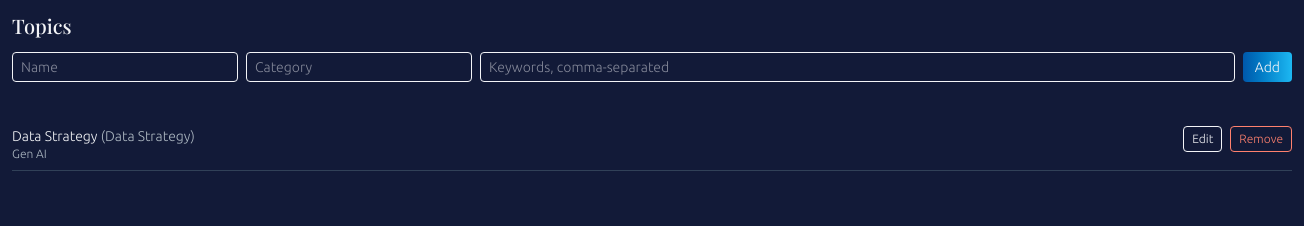
it: TopicsPage › saves an edited topic with the correct PATCH payload and closes the edit form on success
The image size is (1304, 226).
Expected: the text "Data Strategy" is shown, [12, 128, 98, 144]
Click the button "Edit".
click(1203, 139)  # box [1183, 126, 1222, 152]
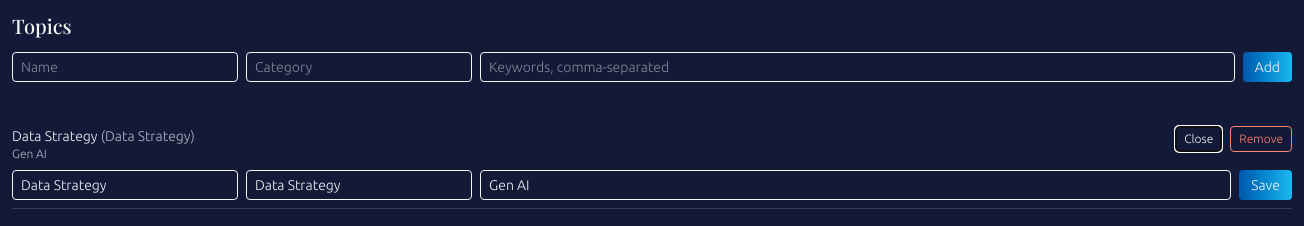
Replace the text in the 1st field with placeholder "Name" with "AI Strategy" at (125, 185), box [12, 170, 238, 200]
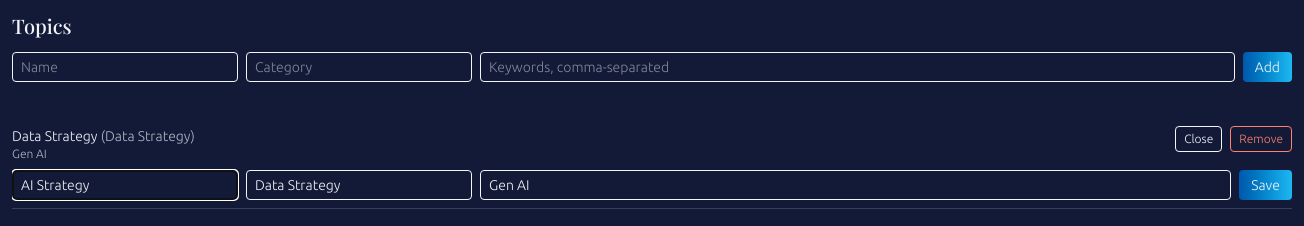
Replace the text in the 2nd field with placeholder "Category" with "AI" at (359, 185), box [246, 170, 472, 200]
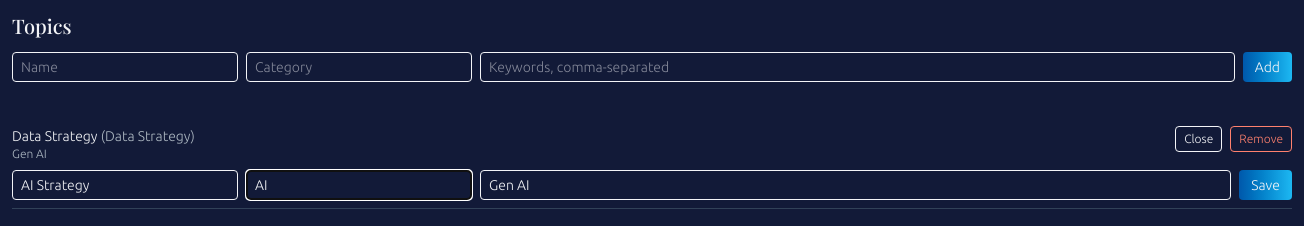
Replace the text in the 3rd field with placeholder "Keywords, comma-separated" with "Gen AI, LLM" at (856, 185), box [480, 170, 1231, 200]
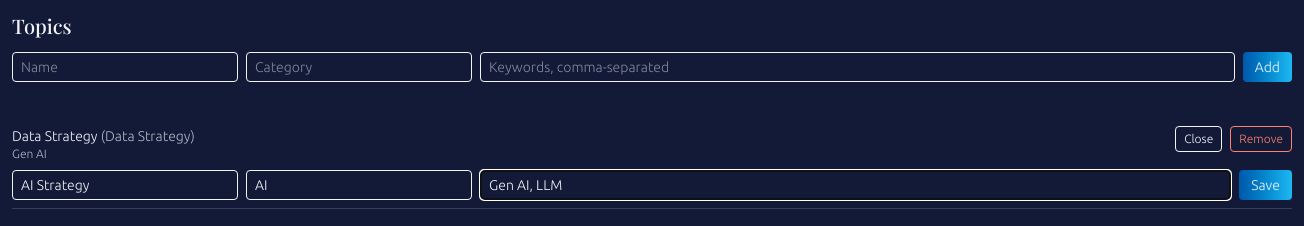
Click the button "Save".
click(1266, 185)  # box [1239, 170, 1292, 200]
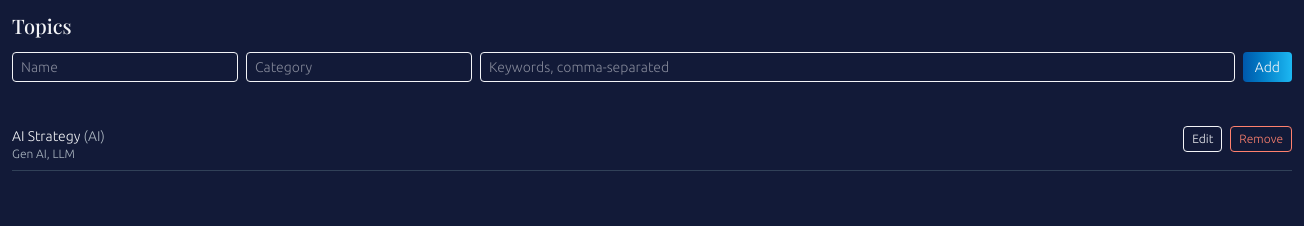
Result: the button "Save" is gone
